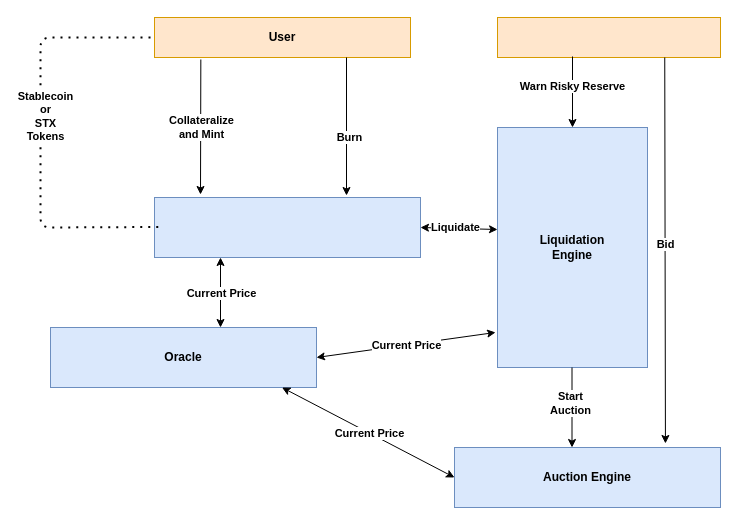
Some shapes in this 738 by 525 pixel diagram are drawn without their labels. Here are the shapes that lost their labels. From the top down, the centre of each, then its label:
At pixel 608 37: "STX Maker".
At pixel 287 227: "STX Reserve".
